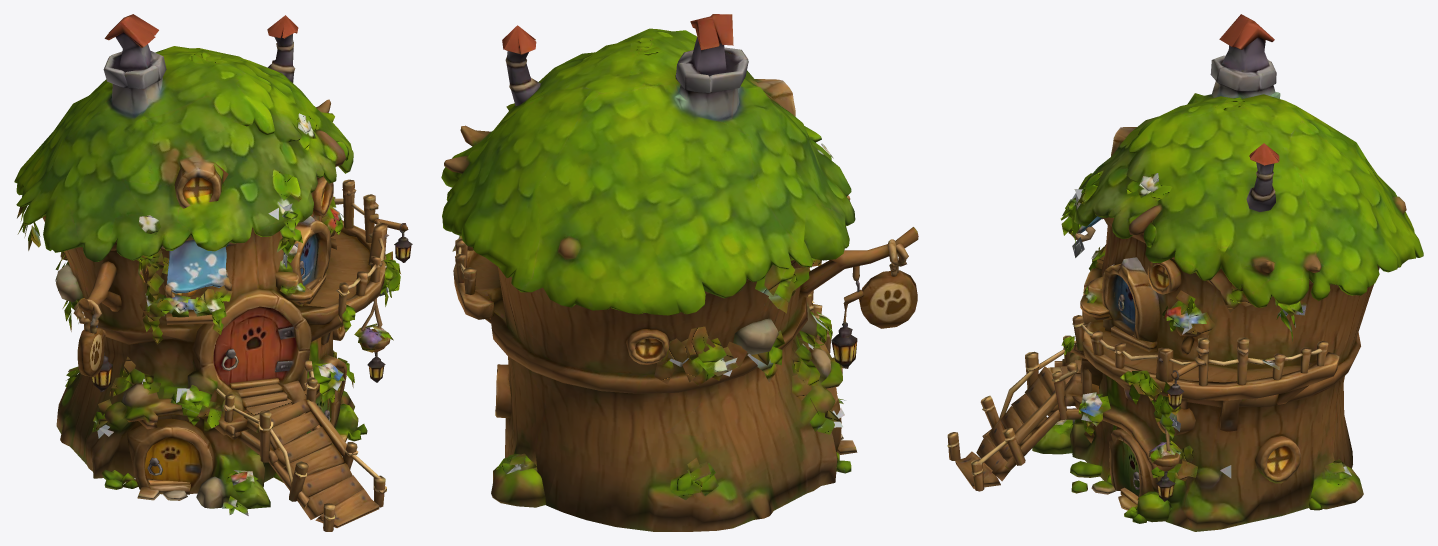
File: enclos_maisonfam.glb
3 views of the same model, side by side, from view 1: azimuth 30°, elevation 25°; view 2: azimuth 150°, elevation 25°; view 3: azimuth 270°, elevation 25° (orthographic). The views are drawn at different scales.
Parts seen in each view (by area): view 1: geometry_0; view 2: geometry_0; view 3: geometry_0.
Boxes of the visible parts, x1,y1,x2,y2 form: geometry_0: (14,14,412,531); geometry_0: (441,14,918,531); geometry_0: (947,14,1423,531).
Bounding box in the file's own units: 0.8277 × 0.9219 × 0.957.
1 material, 1 textured.
